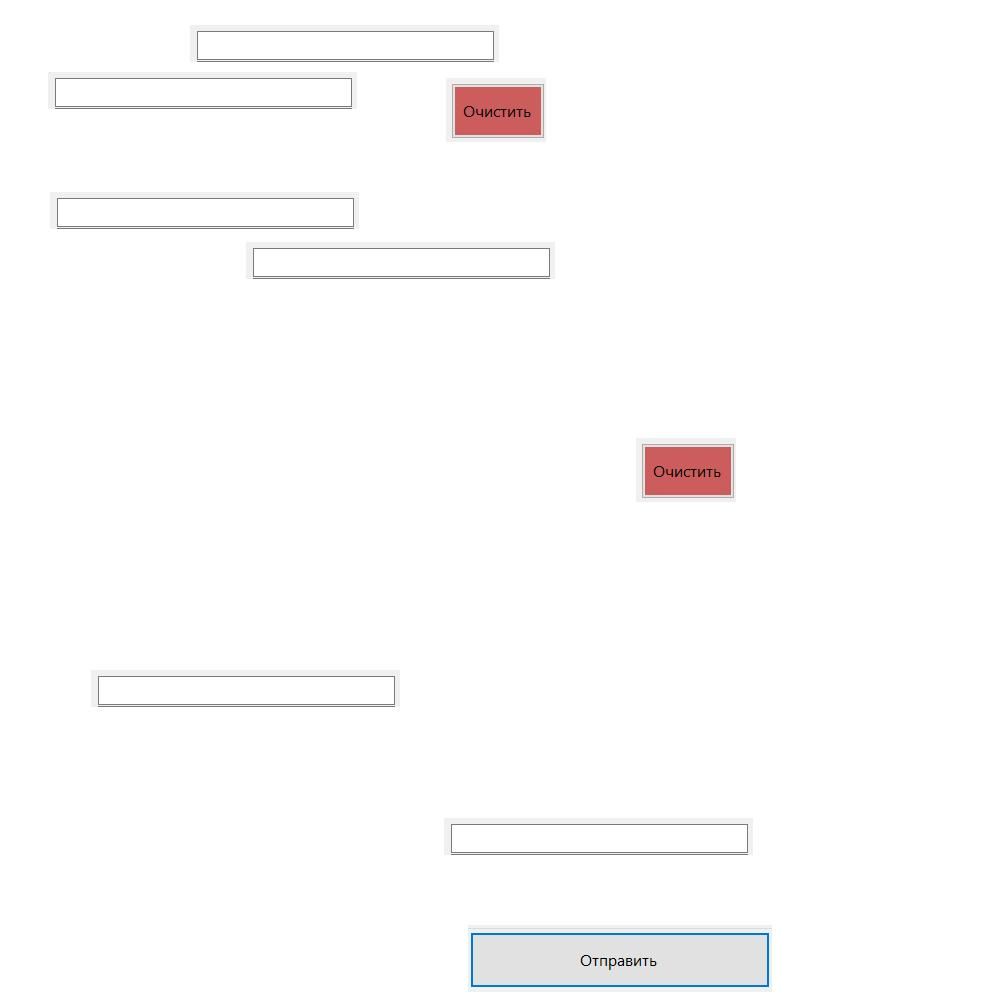Button: (468, 925, 772, 992), (446, 78, 546, 142), (636, 438, 736, 502)
EditText-: (444, 818, 753, 855), (246, 242, 555, 279), (48, 72, 357, 109), (50, 192, 359, 229), (190, 25, 499, 62), (91, 670, 400, 707)
